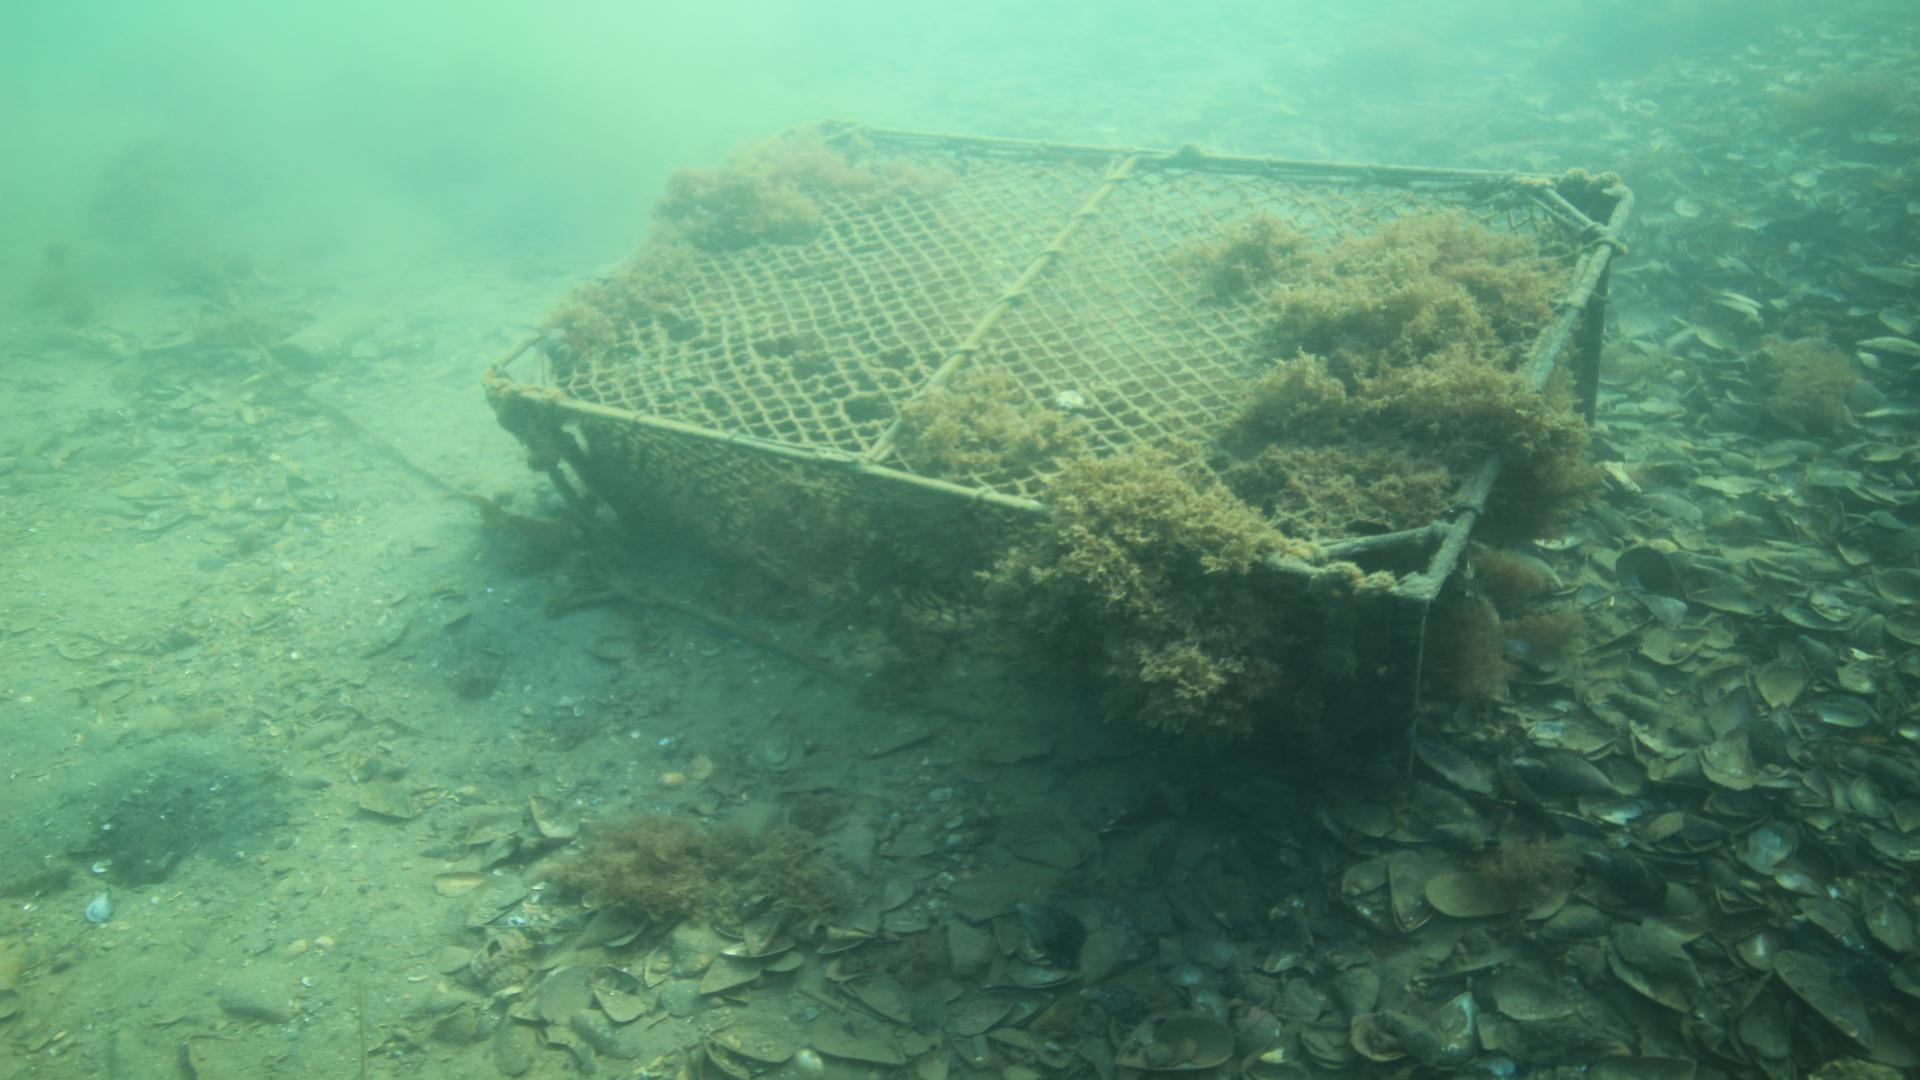rectangular fish trap: (483, 115, 1636, 795)
